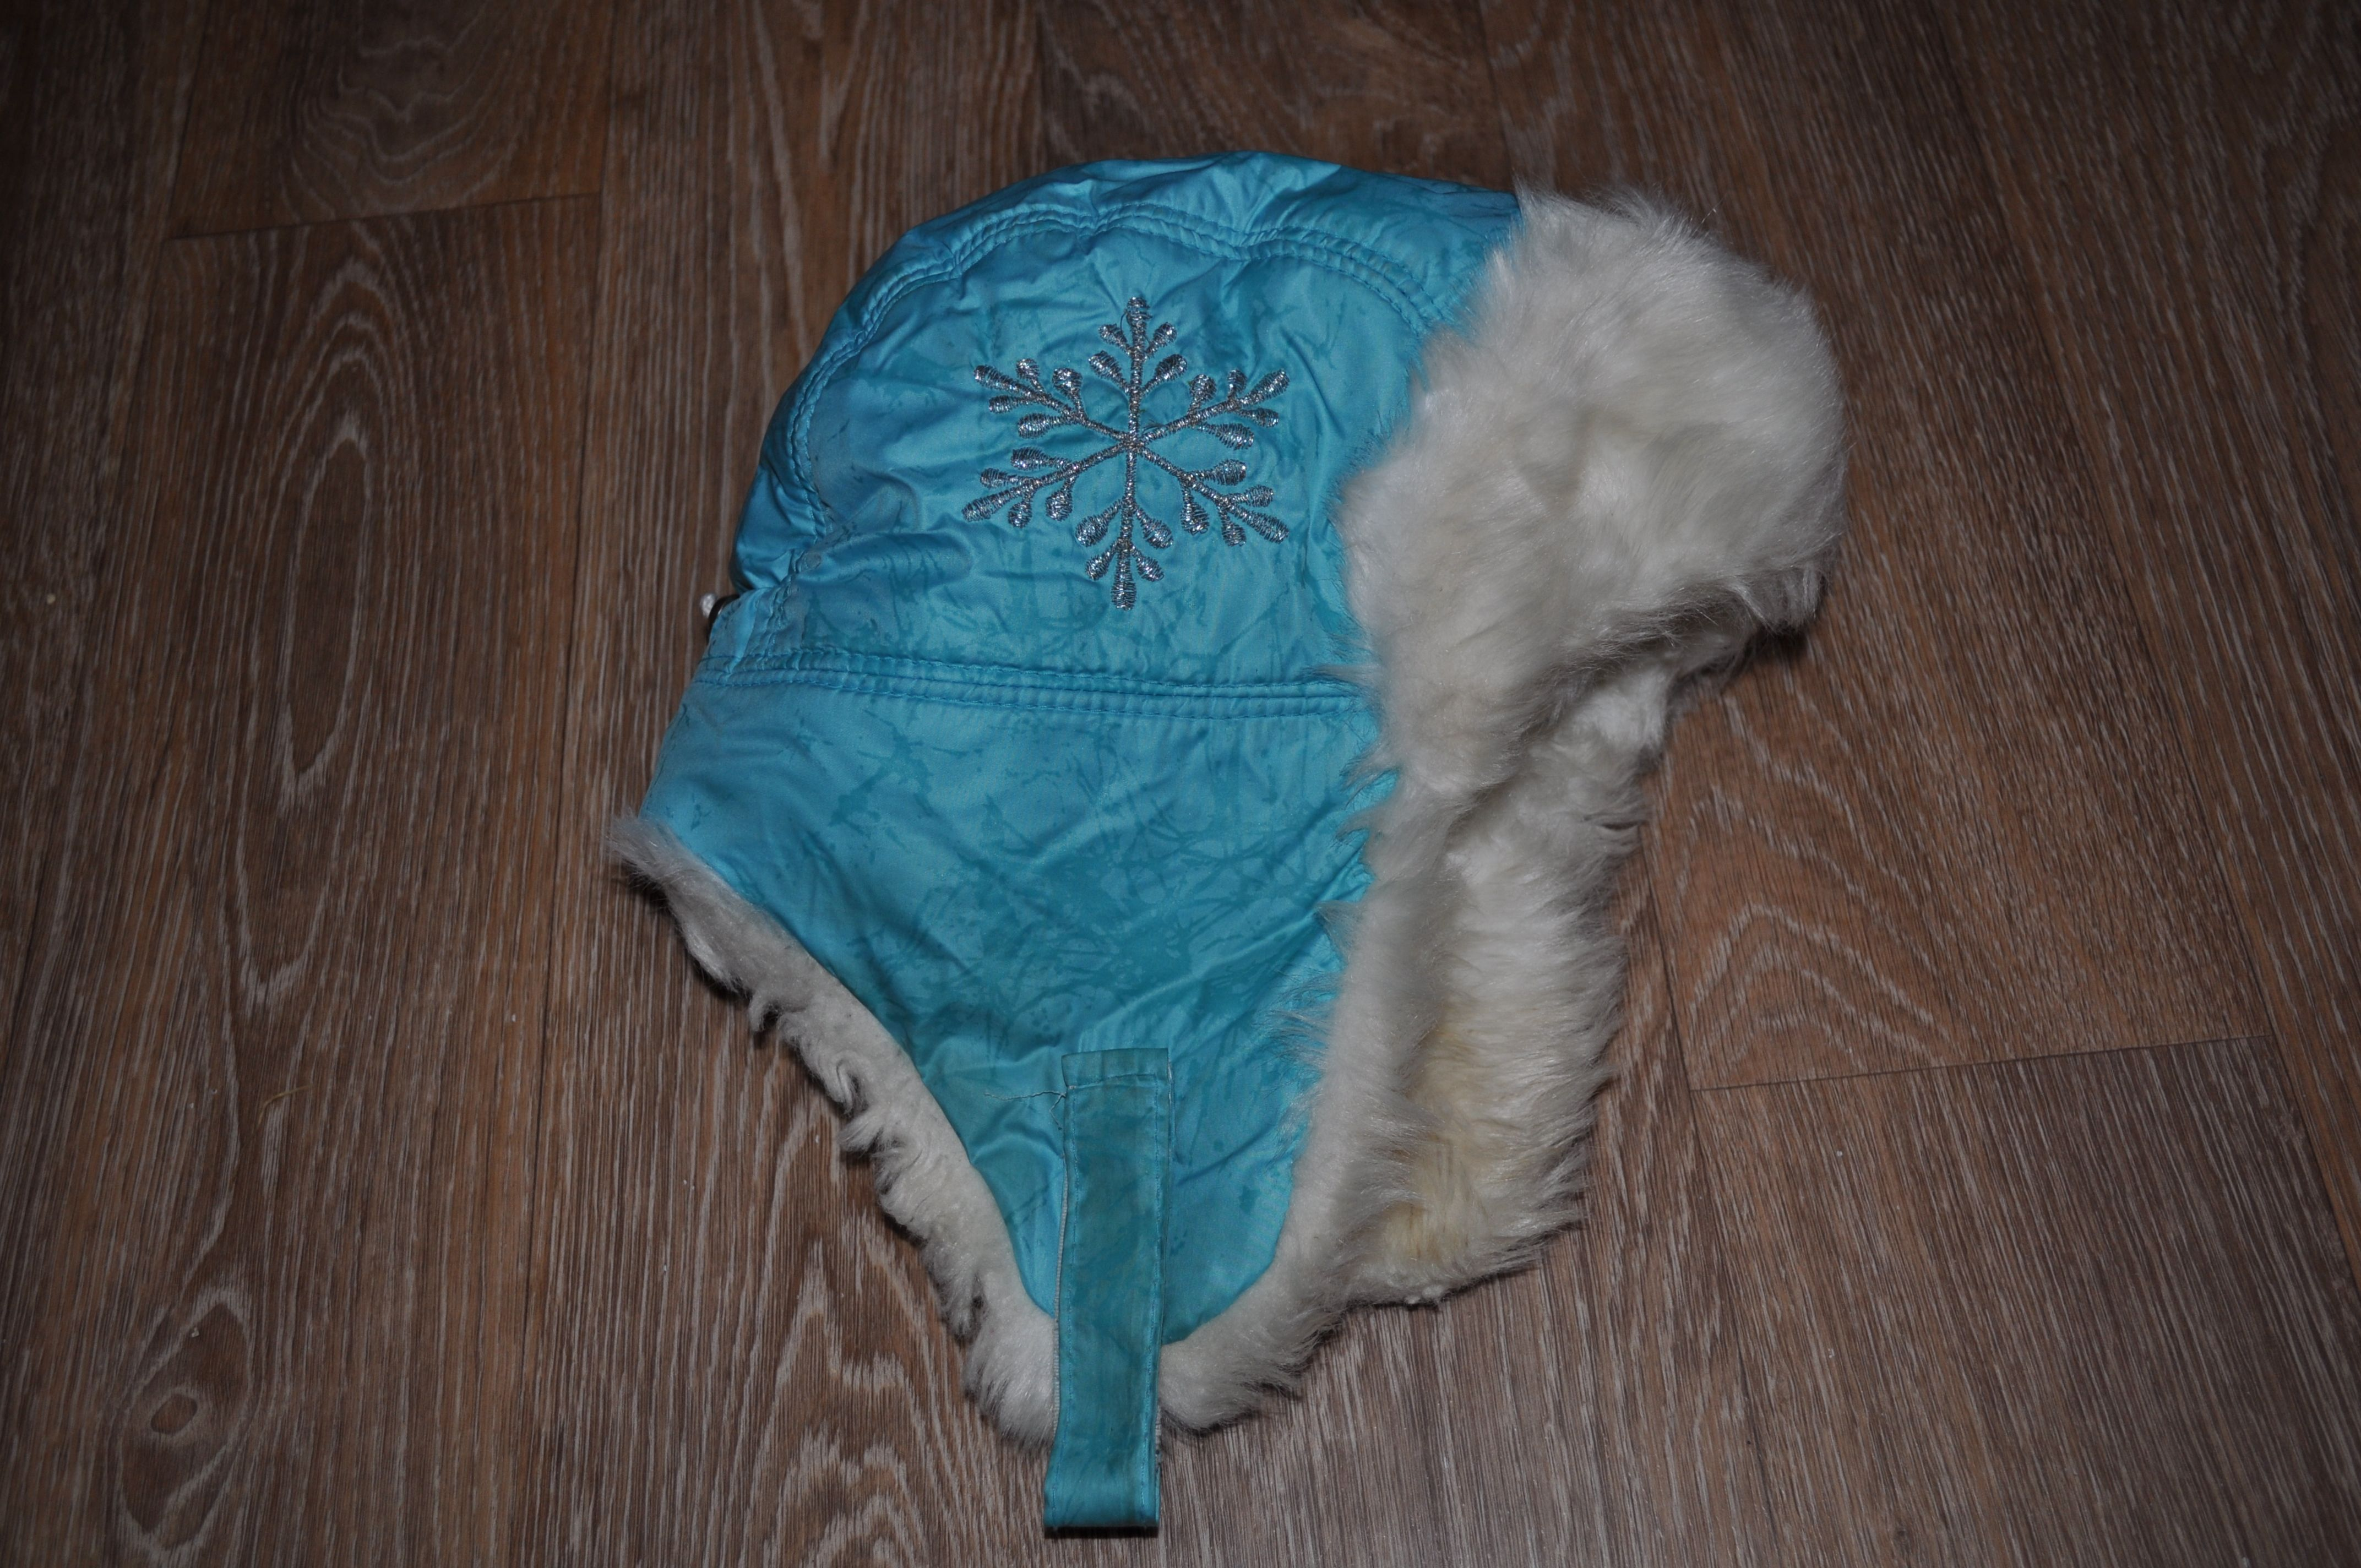clothes: (593, 133, 1832, 1533)
